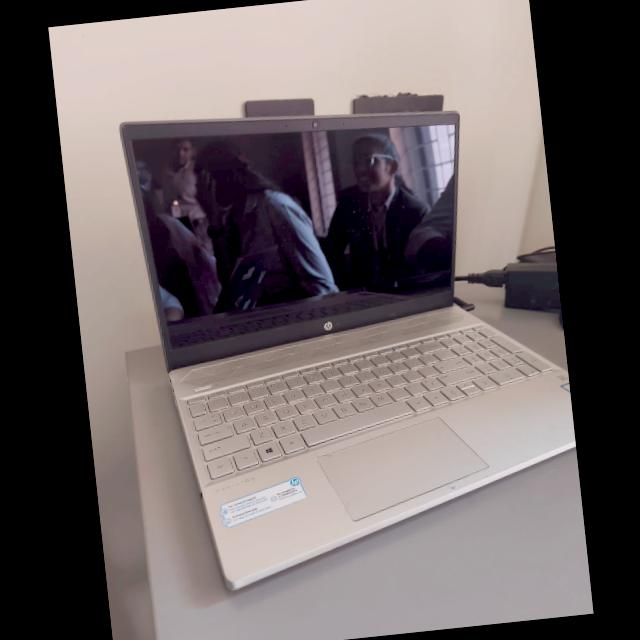laptop: (80, 50, 584, 580)
